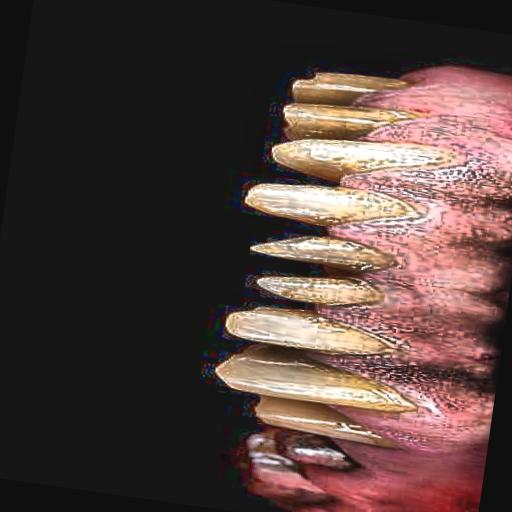Calculus: (167, 40, 488, 509)
